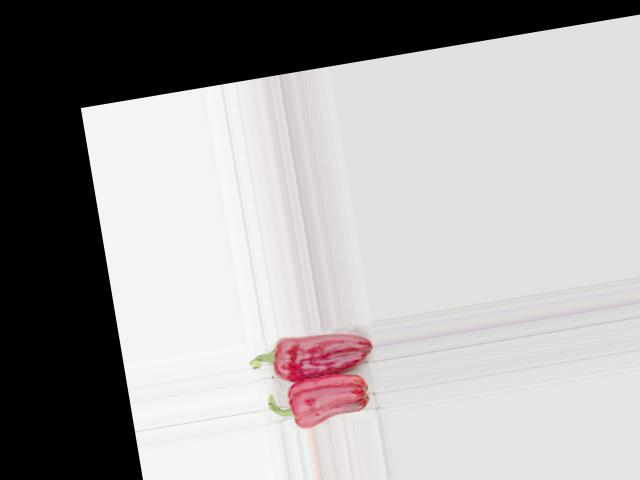bell_pepper: (242, 323, 376, 390)
